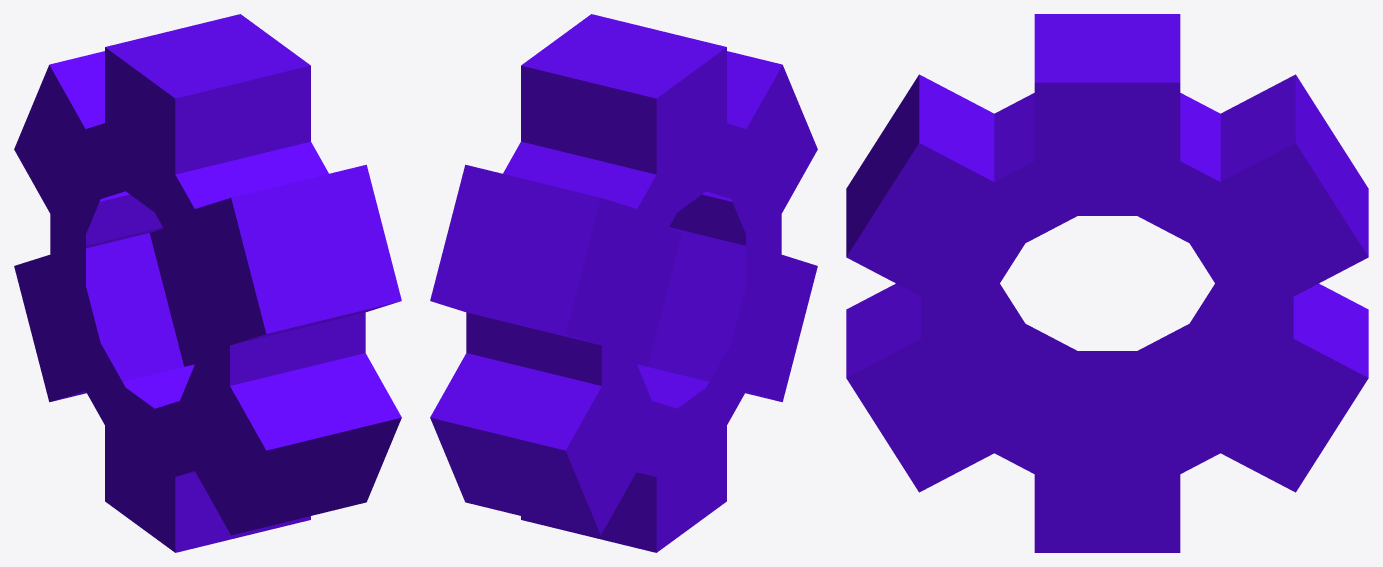
Rendered from cryptex_7.fbx.
3 views of the same model, side by side, from view 1: azimuth 30°, elevation 25°; view 2: azimuth 150°, elevation 25°; view 3: azimuth 270°, elevation 25° (orthographic). The views are drawn at different scales.
Visible parts, largest first — view 1: Object020; view 2: Object020; view 3: Object020.
Boxes of the visible parts, x1=… form: Object020: x1=14, y1=14, x2=401, y2=552; Object020: x1=430, y1=14, x2=817, y2=552; Object020: x1=846, y1=14, x2=1368, y2=552.
Bounding box in the file's own units: 0.0219 × 0.0702 × 0.0707.
